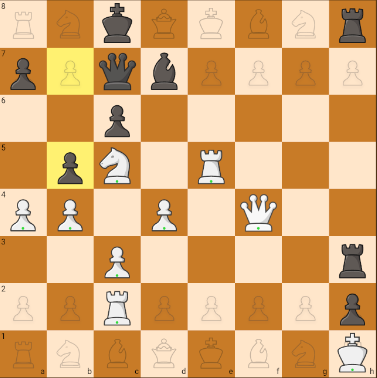bb: (143, 49, 185, 93)
bk: (94, 1, 142, 48)
bp: (48, 143, 92, 187), (96, 100, 137, 141), (333, 286, 372, 328), (3, 51, 42, 92)
bq: (94, 49, 138, 93)
br: (334, 237, 370, 280), (335, 2, 370, 45)
wk: (334, 332, 375, 376)
wn: (96, 147, 136, 185)
wp: (2, 194, 42, 235), (50, 193, 89, 235), (101, 241, 134, 280), (149, 197, 182, 232)
wq: (238, 191, 280, 235)
wr: (189, 142, 233, 185), (96, 289, 136, 328)
